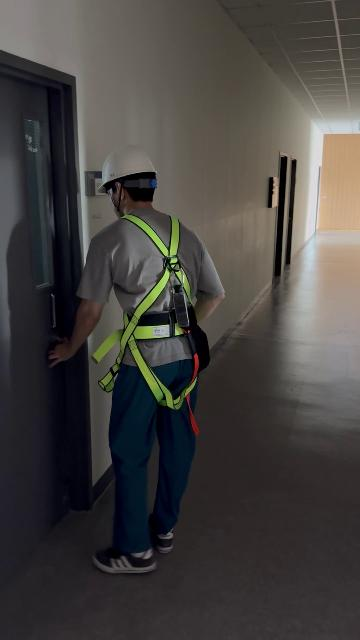helmet_worn: (95, 145, 158, 194)
shoe_not_worn: (92, 545, 156, 574), (148, 513, 174, 553)
vest_worn: (119, 219, 207, 376)
